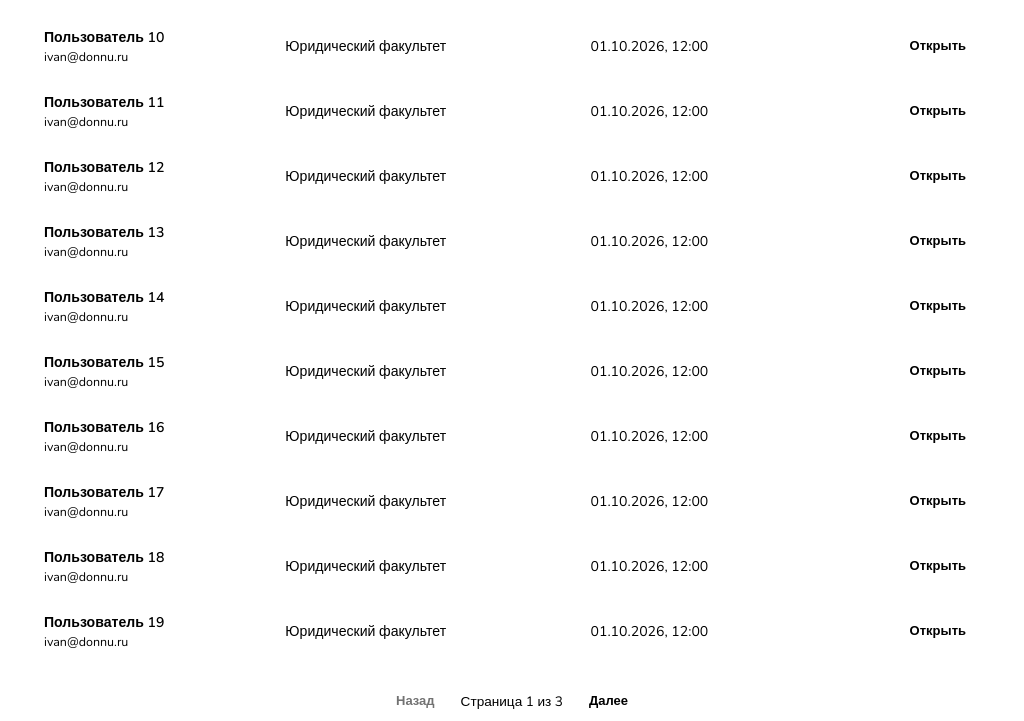
Test case: серверная пагинация по 20: диапазон «1–20 из 45» и переход на следующую страницу
The image size is (1024, 721).
(page scrolled)
Expected: the text "Страница 1 из 3" is shown, top-left (461, 692), bottom-right (563, 711)
Click the button "Далее" at (608, 701), box top-left (575, 684), bottom-right (642, 718)
(page scrolled)
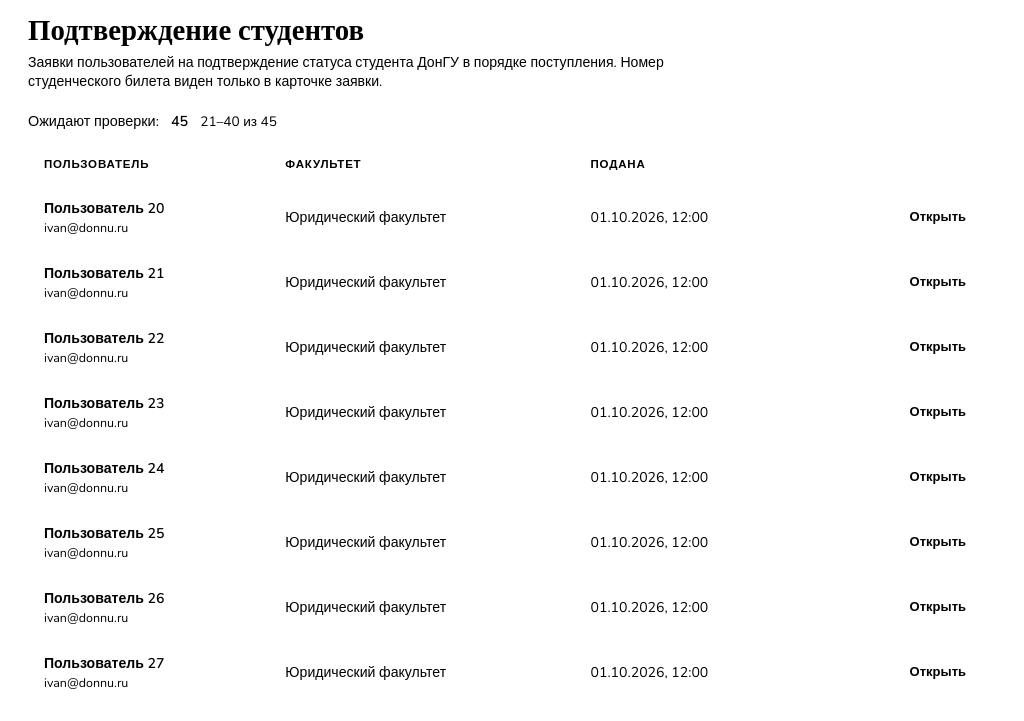
Expected: the text "21–40 из 45" is shown, top-left (200, 112), bottom-right (277, 131)
